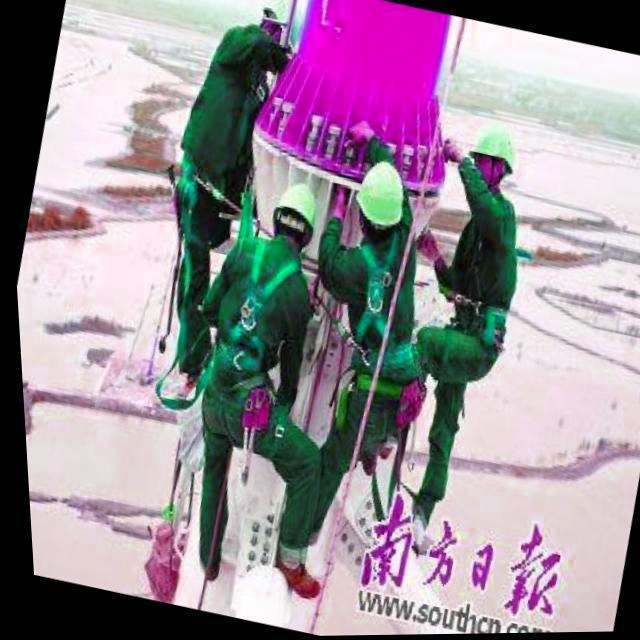safety belt: (209, 240, 303, 382), (347, 249, 426, 374), (454, 219, 521, 349)
